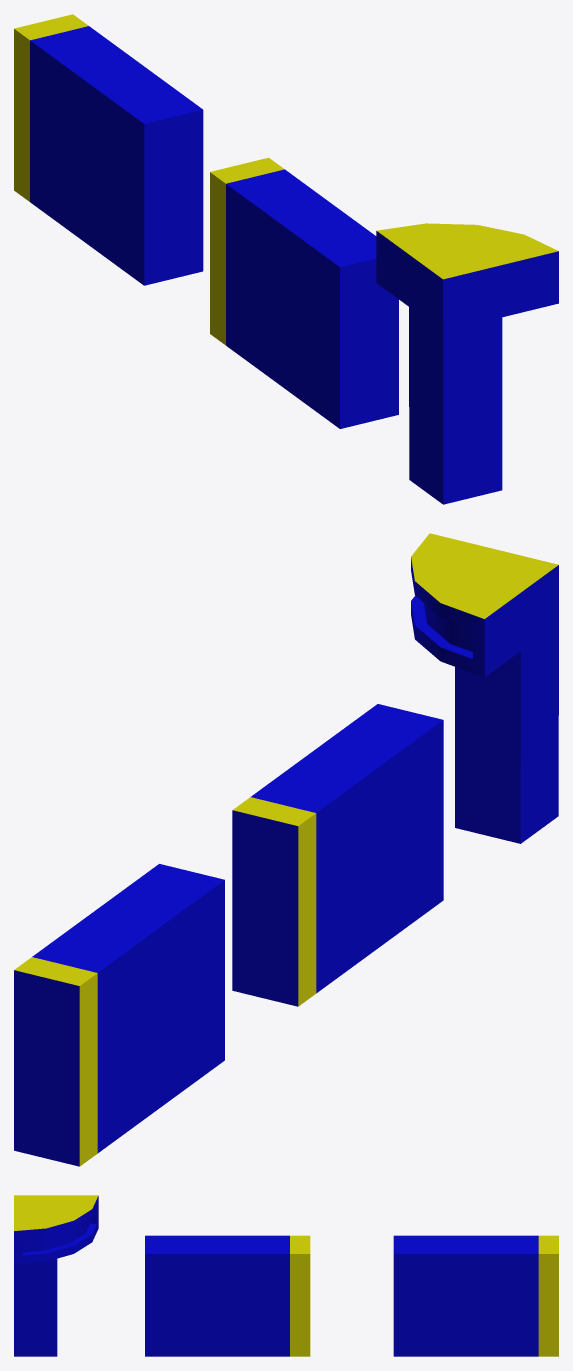
The model's file is SM_ENV_Obstacle.fbx.
The picture shows the model from 3 angles, top to bottom: view 1: azimuth 30°, elevation 25°; view 2: azimuth 150°, elevation 25°; view 3: azimuth 270°, elevation 25°; orthographic projection. The views are drawn at different scales.
Parts seen in each view (by area): view 1: SM_ENV_Obstacle2, SM_ENV_Obstacle2.001, SM_ENV_ObstacleCorner1; view 2: SM_ENV_Obstacle2.001, SM_ENV_Obstacle2, SM_ENV_ObstacleCorner1; view 3: SM_ENV_Obstacle2, SM_ENV_Obstacle2.001, SM_ENV_ObstacleCorner1.
Part boxes in pixels (box(x1,y1,x2,y2)): SM_ENV_Obstacle2: box(14, 14, 203, 285); SM_ENV_Obstacle2.001: box(210, 157, 398, 428); SM_ENV_ObstacleCorner1: box(376, 223, 558, 504); SM_ENV_Obstacle2.001: box(232, 704, 443, 1006); SM_ENV_Obstacle2: box(14, 864, 224, 1166); SM_ENV_ObstacleCorner1: box(411, 533, 558, 843); SM_ENV_Obstacle2: box(393, 1235, 558, 1356); SM_ENV_Obstacle2.001: box(145, 1235, 310, 1356); SM_ENV_ObstacleCorner1: box(14, 1195, 98, 1356).
Bounding box in the file's own units: 58.16 × 108 × 373.
